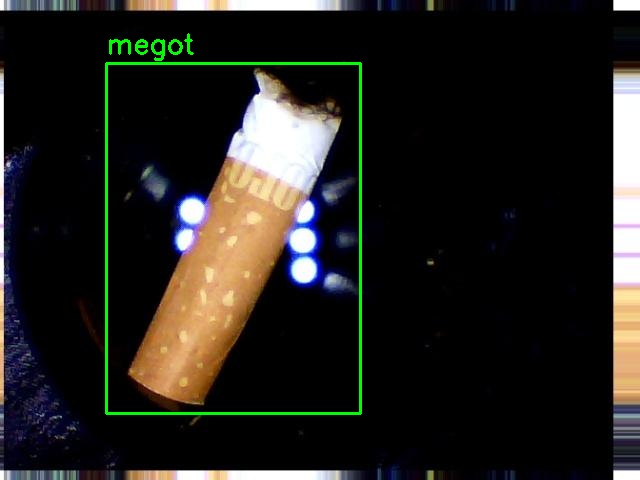megot: (106, 63, 360, 413)
